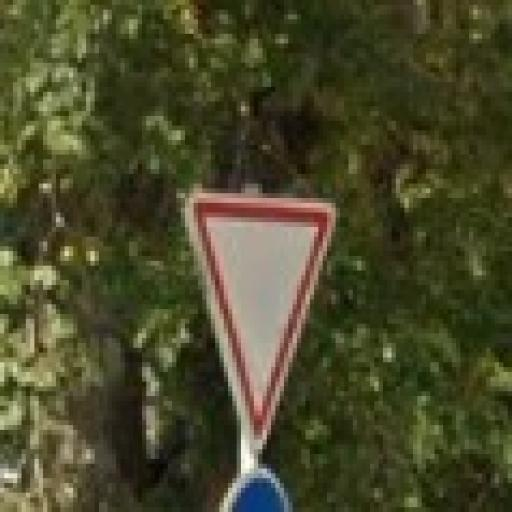traffic_sign: (186, 189, 341, 455)
